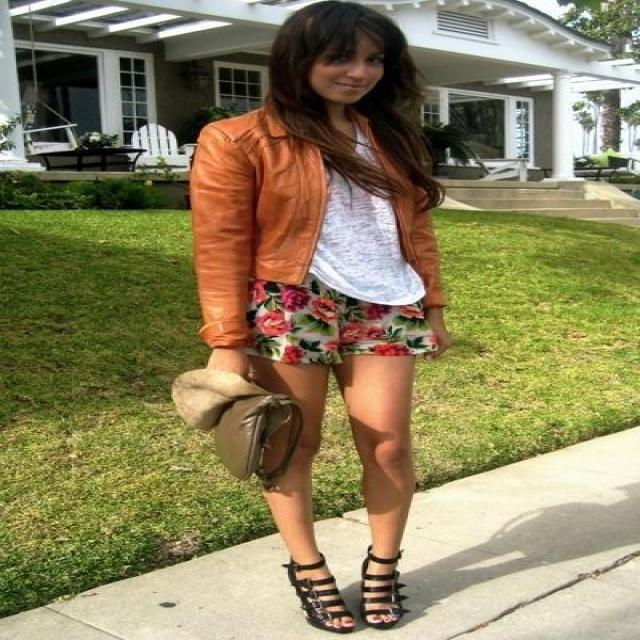jacket: (172, 108, 450, 344)
shirt: (309, 125, 424, 307)
shoe: (282, 550, 406, 608)
shorts: (236, 270, 434, 384)
